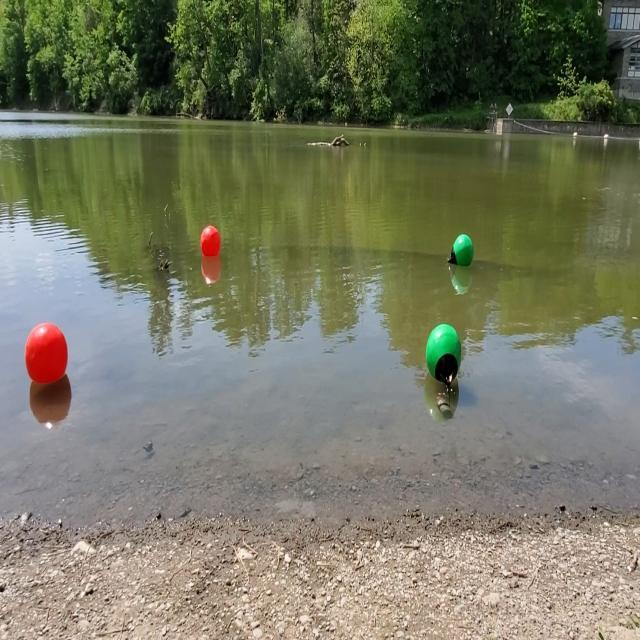buoy: (26, 320, 70, 391), (425, 322, 461, 390), (447, 233, 475, 269), (200, 223, 222, 261)
